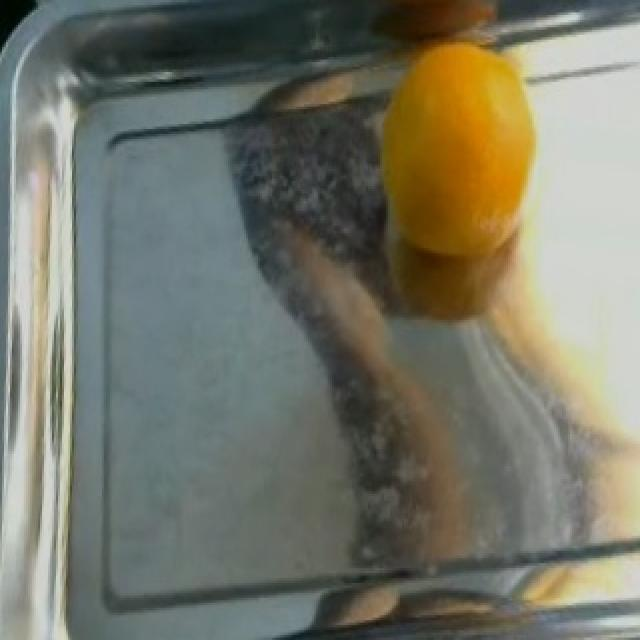Fruit: (354, 15, 568, 317)
